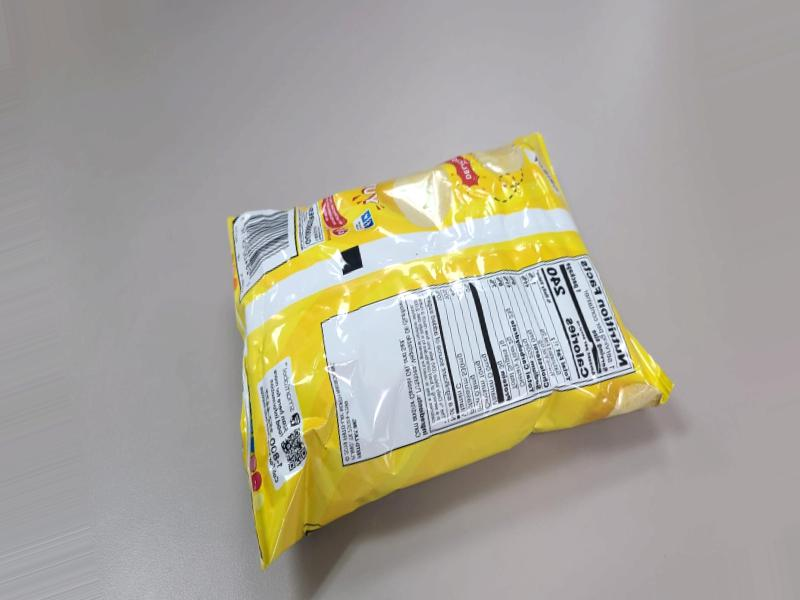lays: (313, 249, 758, 600)
